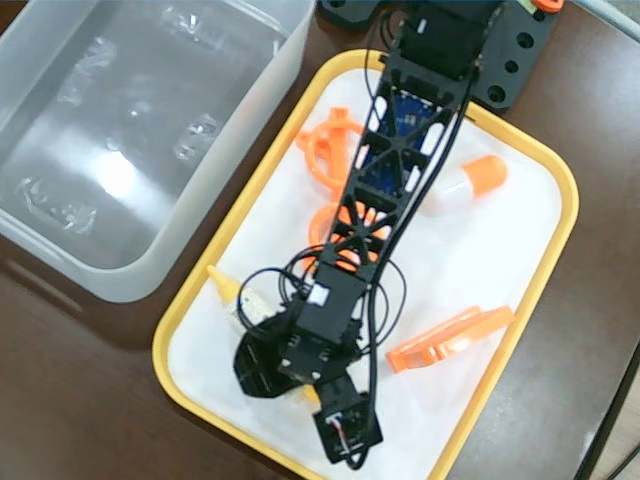pill: (414, 152, 509, 218)
